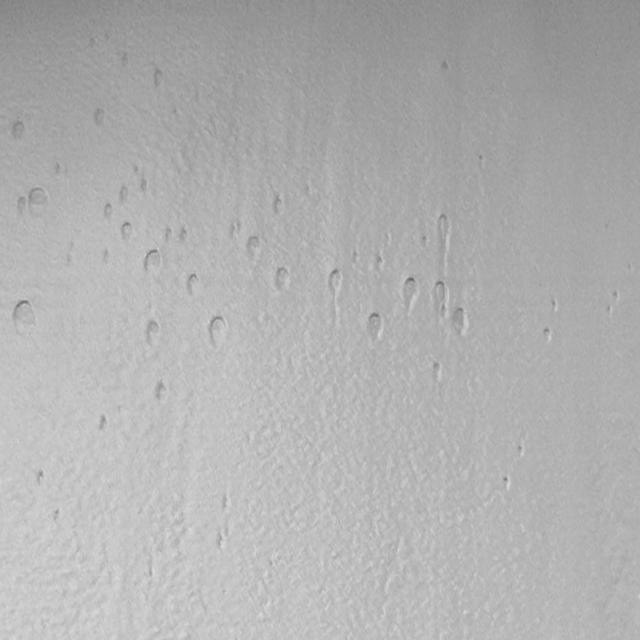pin holes: (8, 297, 38, 335), (23, 186, 51, 218), (205, 313, 230, 346), (433, 214, 455, 250), (362, 310, 384, 341), (400, 277, 420, 309), (324, 268, 344, 299), (452, 306, 472, 335), (142, 248, 164, 274), (273, 266, 294, 293), (7, 117, 28, 144), (430, 281, 448, 312), (151, 378, 171, 404), (144, 316, 163, 343), (243, 234, 262, 261), (270, 194, 289, 220), (117, 219, 135, 245), (185, 271, 202, 298), (33, 467, 52, 490), (94, 413, 113, 436), (92, 108, 110, 132), (15, 193, 31, 219), (227, 218, 243, 244), (214, 532, 230, 555), (152, 68, 168, 91), (432, 360, 446, 386), (220, 488, 230, 521), (117, 184, 130, 208), (541, 327, 556, 347), (610, 288, 622, 309), (162, 225, 175, 244), (120, 52, 133, 70), (102, 201, 114, 220), (516, 442, 528, 461), (180, 227, 192, 246), (501, 475, 514, 492), (439, 58, 452, 75), (99, 249, 112, 266), (138, 179, 150, 197), (376, 254, 388, 272), (549, 298, 560, 314), (420, 233, 431, 248), (604, 305, 614, 320), (477, 154, 487, 168)
